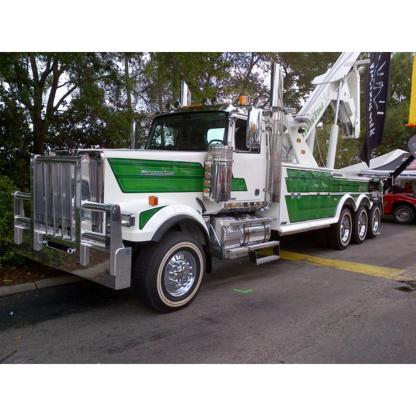Car: (383, 192, 415, 224)
Truck: (11, 51, 393, 314)
